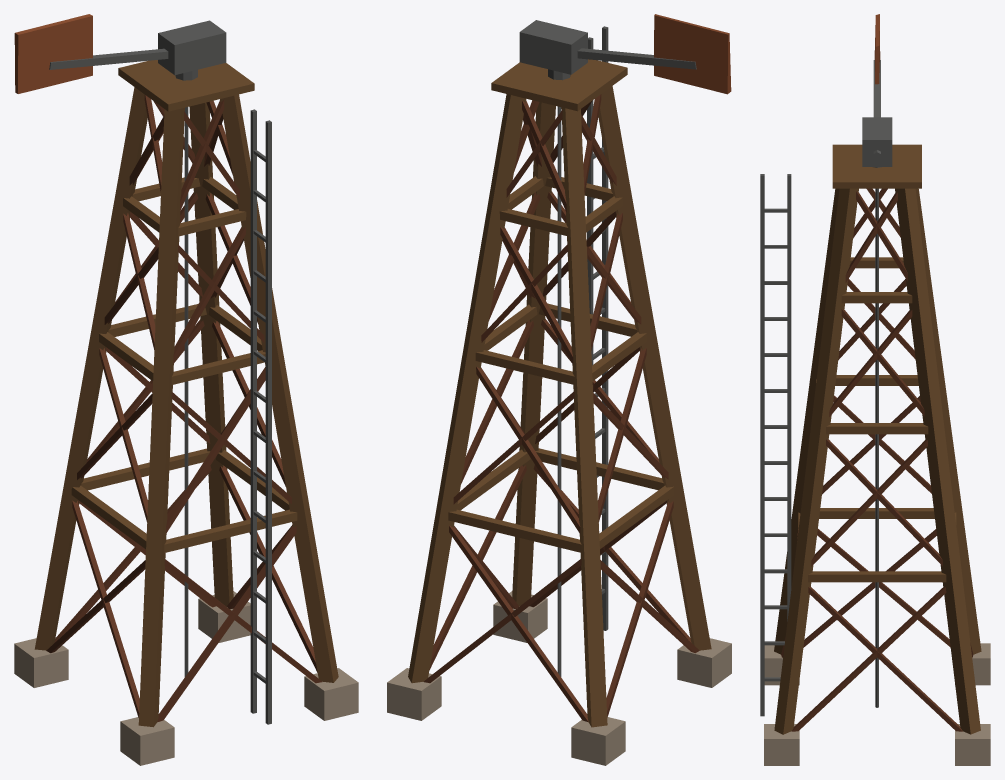
The model's file is windmill_tower.glb.
3 renders of one model, left to right at view 1: azimuth 30°, elevation 25°; view 2: azimuth 150°, elevation 25°; view 3: azimuth 270°, elevation 25°, orthographic. The views are drawn at different scales.
Parts seen in each view (by area): view 1: windmill_tower; view 2: windmill_tower; view 3: windmill_tower.
Part boxes in pixels (left/top/right/bottom): windmill_tower: left=14, top=14, right=358, bottom=765; windmill_tower: left=387, top=14, right=731, bottom=765; windmill_tower: left=760, top=14, right=990, bottom=765.
Bounding box in the file's own units: 4.86 × 11.69 × 3.86.
